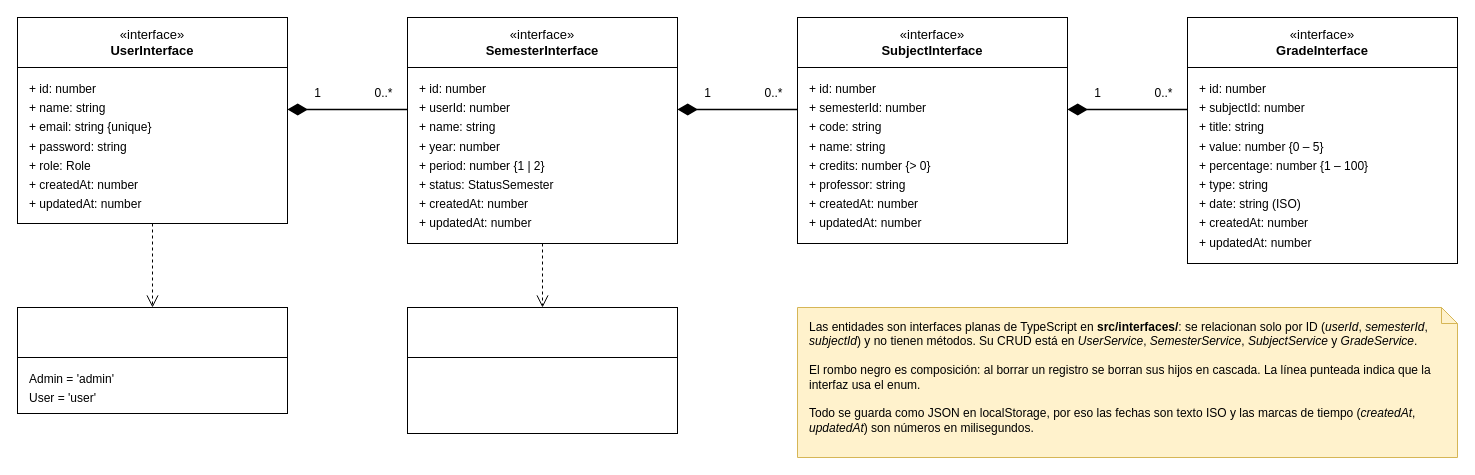
Image size: 1475x475. Some labels were removed from this diagram. Each missing label, with the centre of its shape:
inComing = 'Entrante' inProgress = 'En proceso' ended = 'Terminado': point 542,395
«enumeration» Role: point 152,332
«enumeration» StatusSemester: point 542,332
